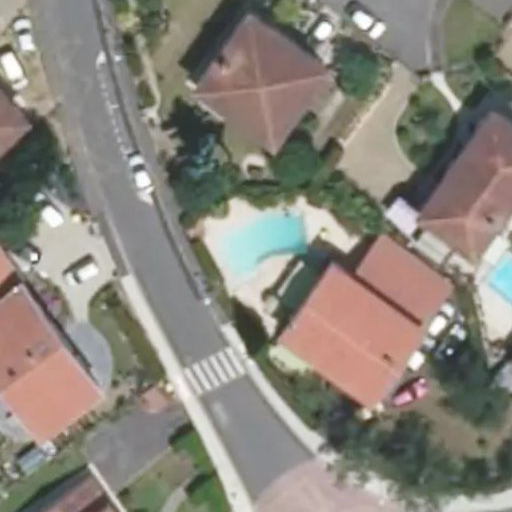pool: (206, 230, 317, 241)
